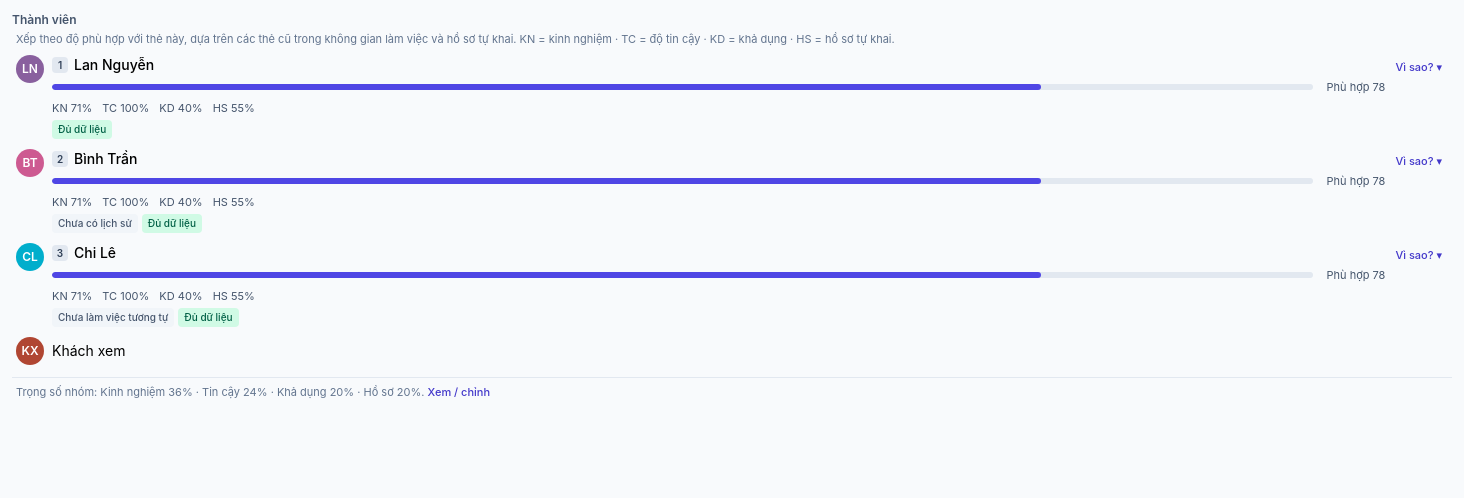
Test: AssignSuggestPanel - hiển thị gợi ý › "Vì sao?": mở/đóng bằng chứng (tiêu đề, độ giống, kết quả, ngày); tiêu đề bị che hiện "Thẻ ở bảng riêng tư"; rỗng thì nói rõ lý do
expect the list item with test id "assign-row-u1" is shown: met, box [12,51,1452,143]
expect the text "Thiết kế màn hình đăng ký" is not shown: met
Click the button with aria-label "Vì sao gợi ý Lan Nguyễn".
click(1419, 67)  # box [1389,57,1448,78]
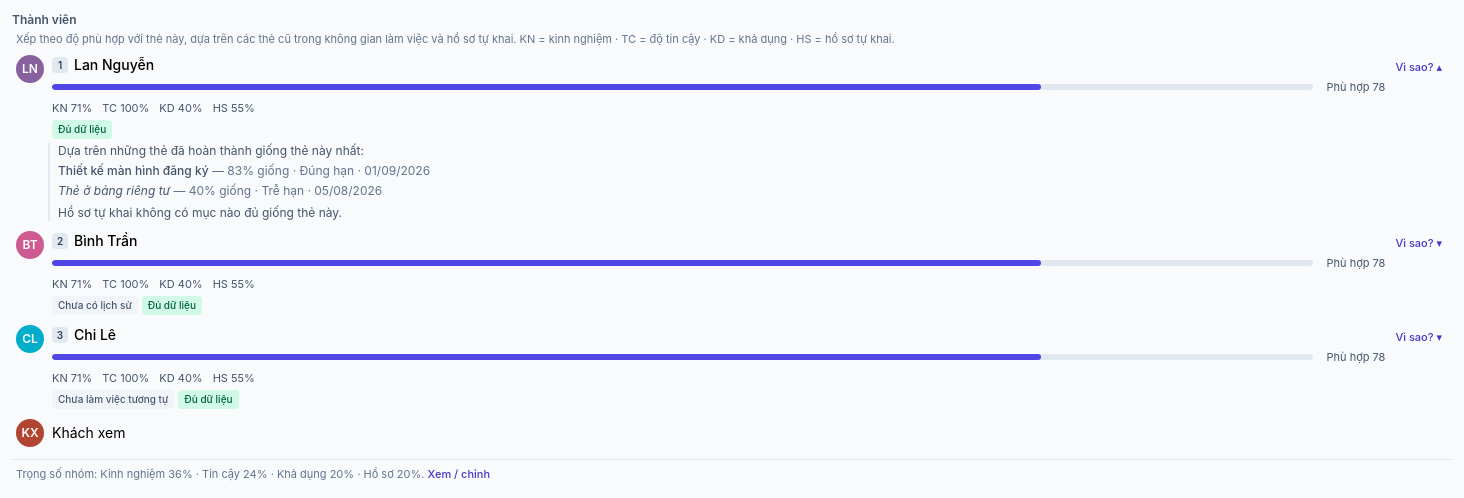
expect the button with aria-label "Vì sao gợi ý Lan Nguyễn" is expanded: met, box [1389,57,1448,78]
expect the text "Thiết kế màn hình đăng ký" is shown: met, box [58,163,209,178]
expect the text "— 83% giống · Đúng hạn · 01/09/2026" is shown: met, box [209,163,430,178]
Click the button with aria-label "Vì sao gợi ý Bình Trần".
click(1419, 243)  # box [1389,233,1448,254]
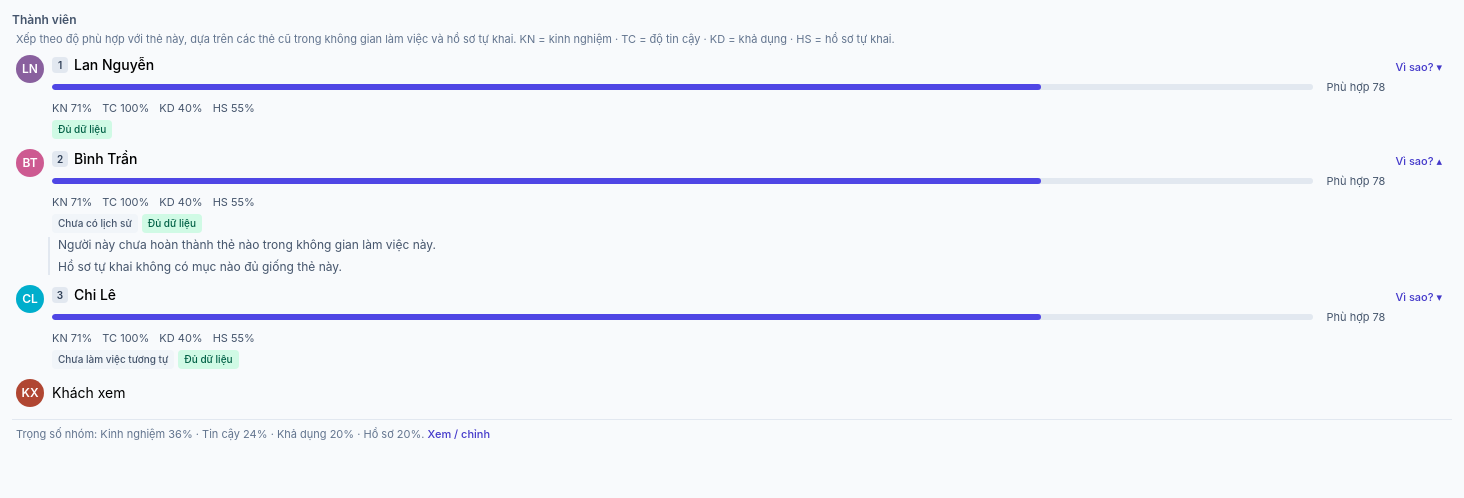
expect the text "Thiết kế màn hình đăng ký" is gone: met
expect the text "Người này chưa hoàn thành thẻ nào trong không gian làm việc này." is shown: met, box [58,237,436,252]
Click the button with aria-label "Vì sao gợi ý Chi Lê".
click(1419, 297)  # box [1389,287,1448,308]
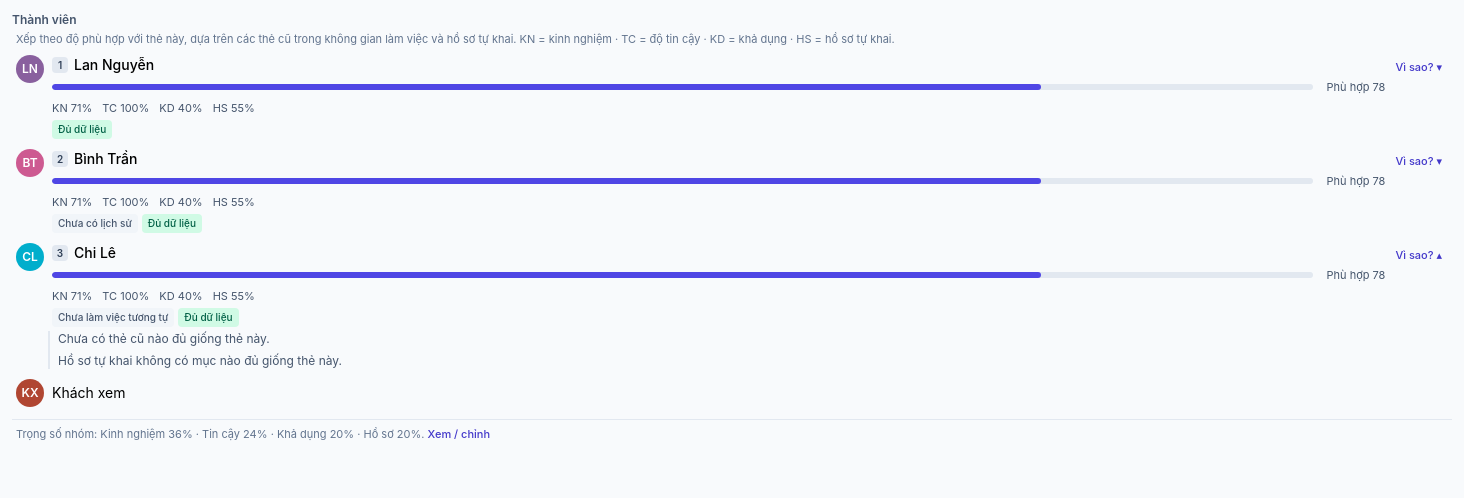
expect the text "Chưa có thẻ cũ nào đủ giống thẻ này." is shown: met, box [58,331,270,346]
Click the button with aria-label "Vì sao gợi ý Chi Lê".
click(1419, 255)  # box [1389,245,1448,266]
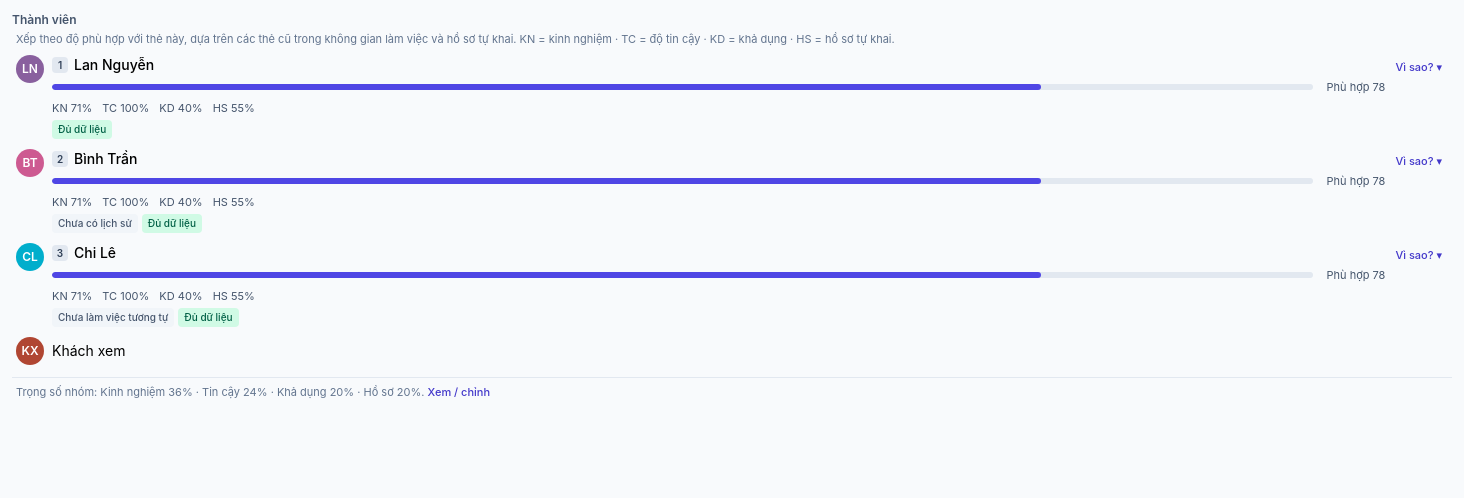
expect the text "Chưa có thẻ cũ nào đủ giống thẻ này." is gone: met
